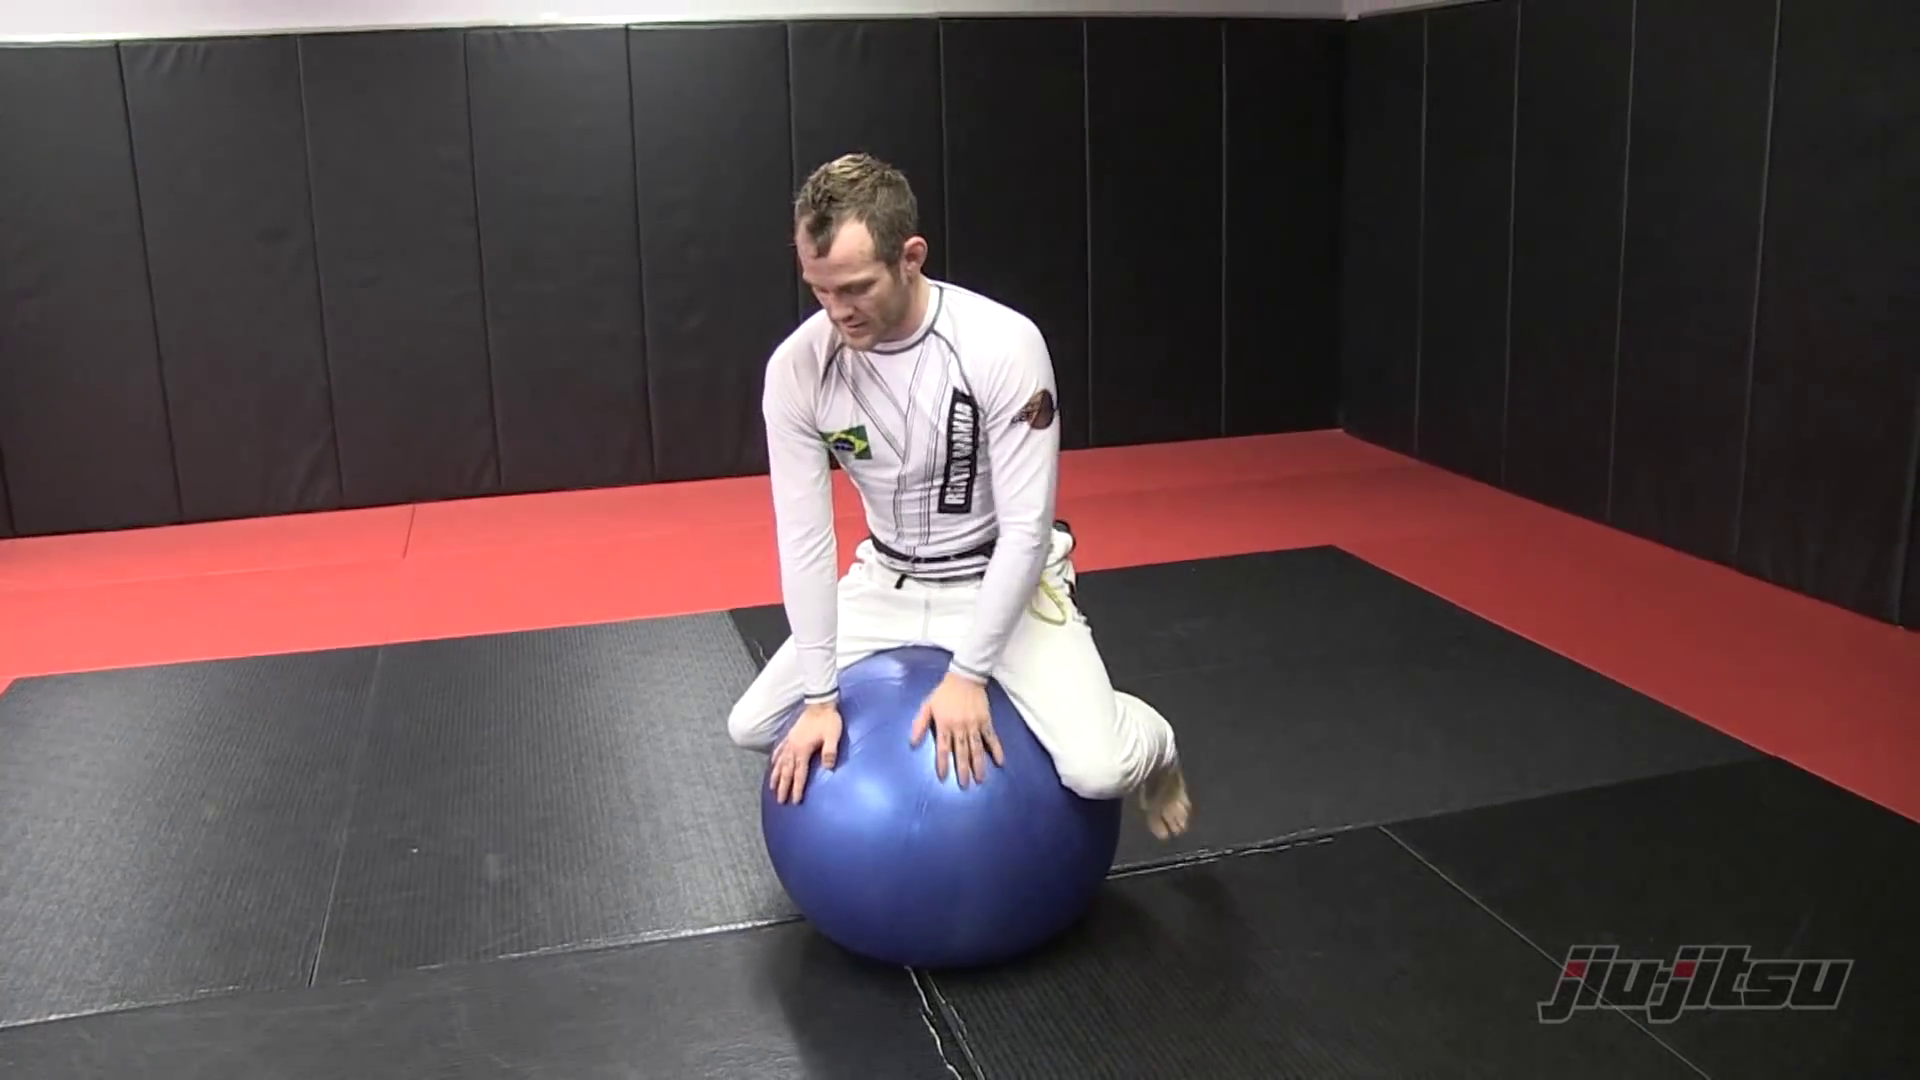yogaball: (742, 636, 1146, 989)
